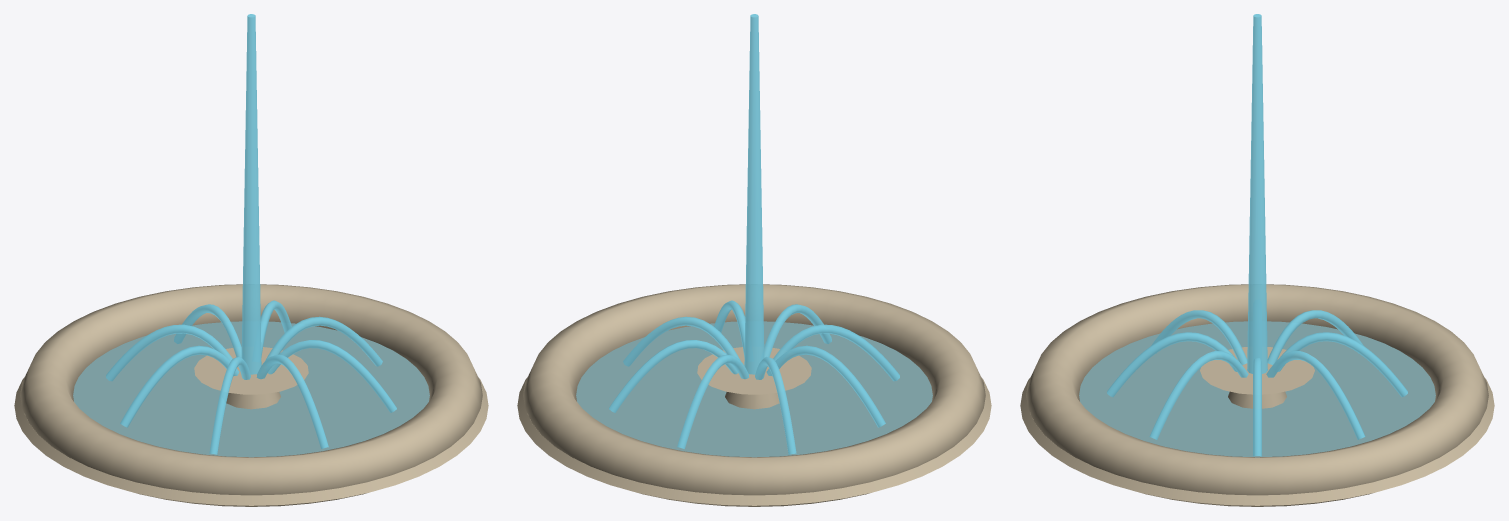
The model's file is washington-square-fountain.glb.
3 views of the same model, side by side, from view 1: azimuth 30°, elevation 25°; view 2: azimuth 150°, elevation 25°; view 3: azimuth 270°, elevation 25° (orthographic).
Parts seen in each view (by area): view 1: Simple mapped Washington Square fountain, Eight arcing fountain sprays and central plume; view 2: Simple mapped Washington Square fountain, Eight arcing fountain sprays and central plume; view 3: Simple mapped Washington Square fountain, Eight arcing fountain sprays and central plume.
Part boxes in pixels (x1=…): Simple mapped Washington Square fountain: x1=14, y1=284, x2=488, y2=506; Eight arcing fountain sprays and central plume: x1=106, y1=14, x2=396, y2=454; Simple mapped Washington Square fountain: x1=517, y1=284, x2=991, y2=506; Eight arcing fountain sprays and central plume: x1=609, y1=14, x2=899, y2=454; Simple mapped Washington Square fountain: x1=1020, y1=284, x2=1494, y2=506; Eight arcing fountain sprays and central plume: x1=1107, y1=14, x2=1407, y2=456.
Size of the model in its own units: 24.12 by 22.92 by 24.12.
